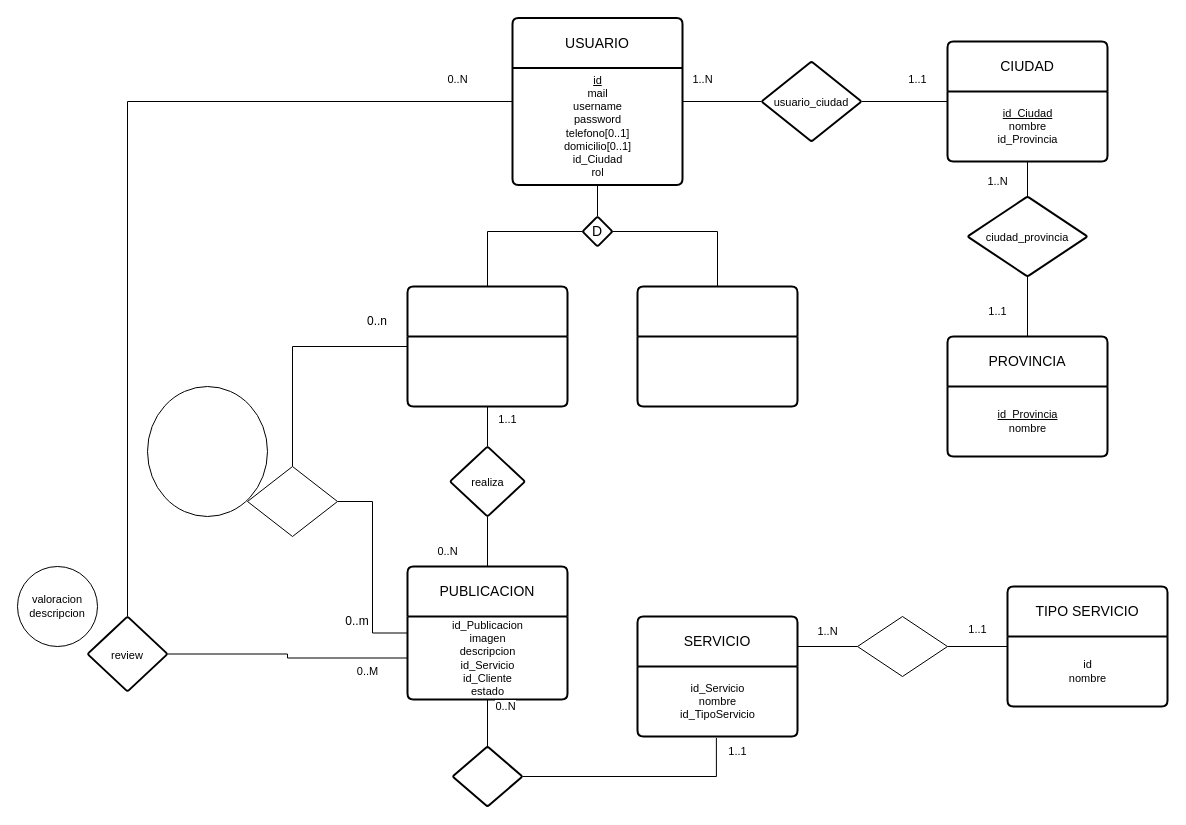
This 1186x825 diagram has some shape labels left out. The box of each missing label's shape, as (x1, y1, x2, y2) in pixels:
ADMINISTRADOR: (636, 285, 798, 407)
CLIENTE: (406, 285, 568, 407)
id fecha_reserva estado precio notas[0..1] created_at[0..1] updated_at[0..1]: (146, 386, 268, 516)
p_s: (451, 745, 523, 807)
reserva: (246, 466, 338, 536)
tipo_servicio: (856, 616, 948, 676)
